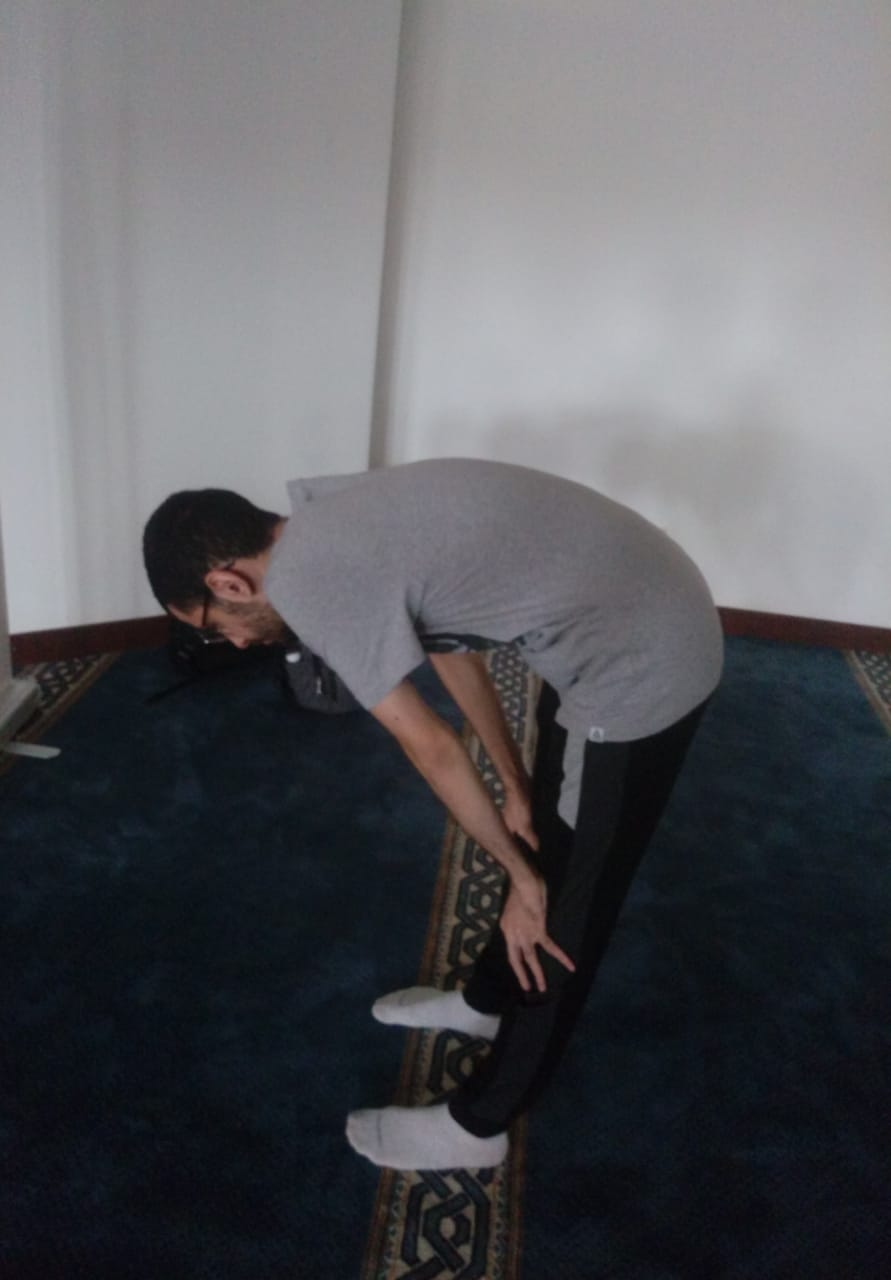ruku: (39, 389, 874, 1226)
